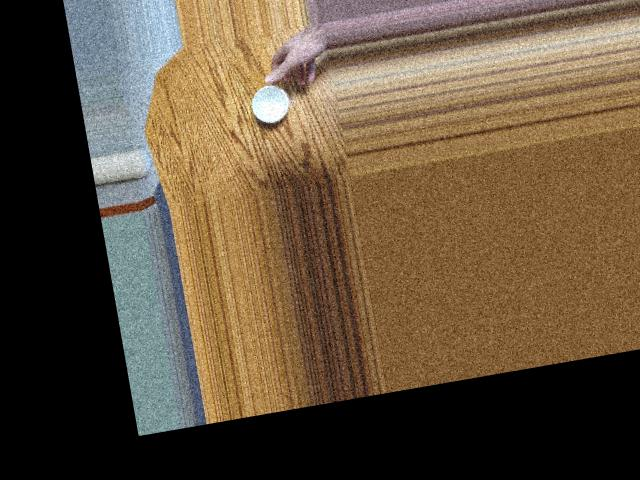cotage: (239, 71, 299, 130)
